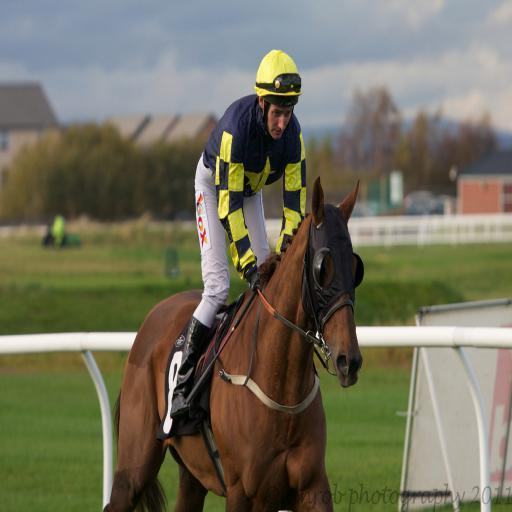horse: (99, 174, 366, 512)
